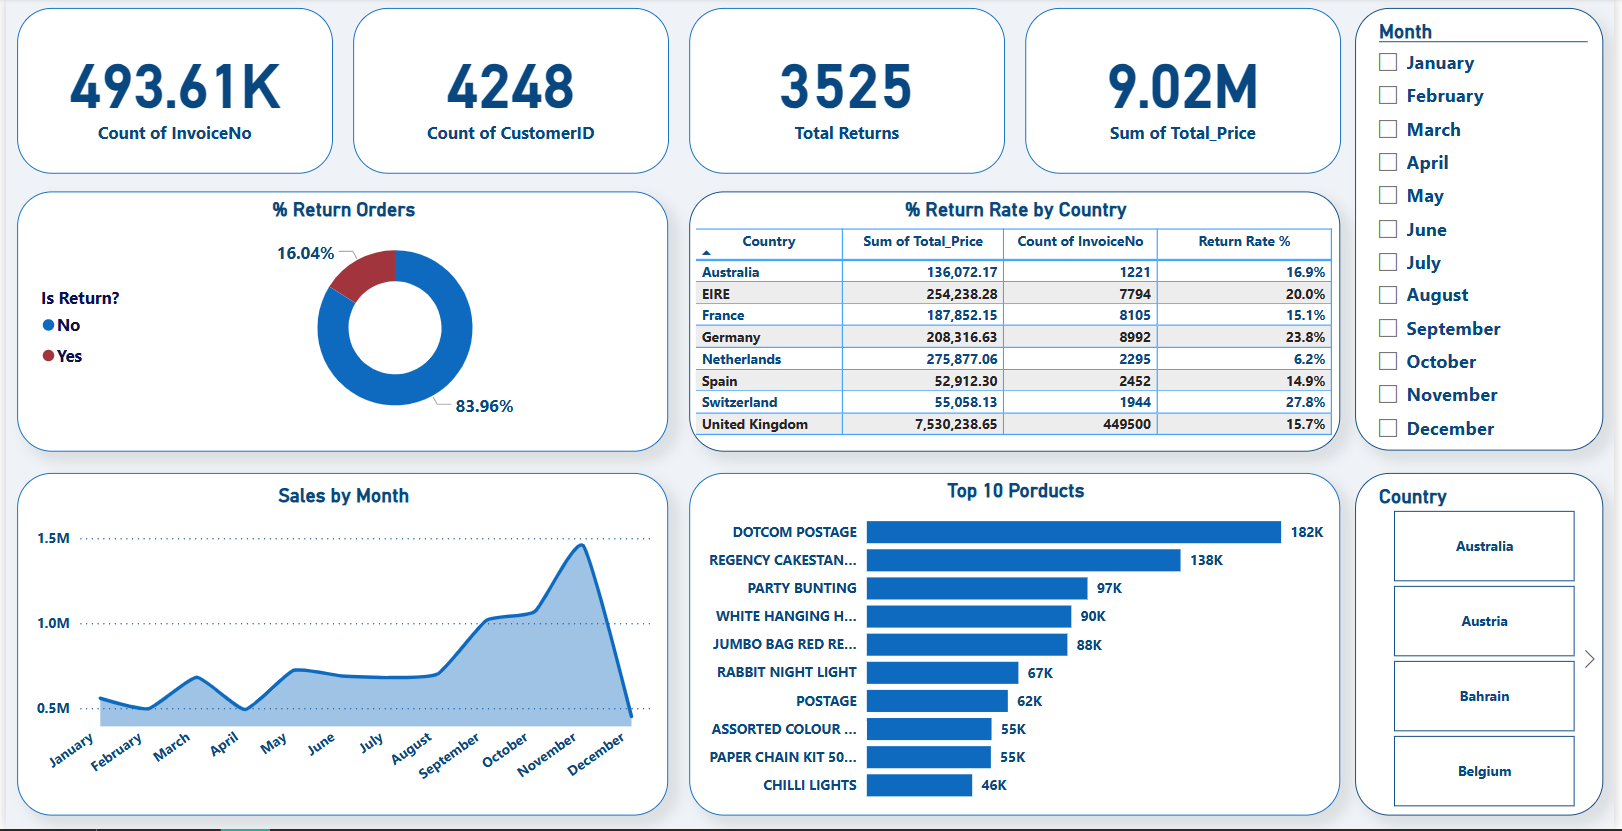

The page's visual inventory and layout, read from the dashboard file:
{"tool":"powerbi","page":{"name":"Dashboard","canvas":[1400,723],"ordinal":0},"visuals":[{"type":"areaChart","title":"Sales by Month","fields":{"Y":["Sum(dataset.Total_Price)"],"Category":["dataset.InvoiceDate.Variation.Date Hierarchy.Month"]},"box":[9.7,413.3,567.3,298.2],"z":0},{"type":"clusteredBarChart","title":"Top 10 Porducts","fields":{"Category":["dataset.Description"],"Y":["Sum(dataset.Total_Price)"]},"box":[595.2,413.3,567.3,298.2],"z":1000},{"type":"card","fields":{"Values":["CountNonNull(dataset.InvoiceNo)"]},"box":[9.7,8.5,275.2,144.2],"z":2000},{"type":"card","fields":{"Values":["Sum(dataset.Total_Price)"]},"box":[887.3,8.5,275.2,144.2],"z":3000},{"type":"card","fields":{"Values":["Count(dataset.CustomerID)"]},"box":[302.2,8.5,275.2,144.2],"z":4000},{"type":"card","fields":{"Values":["dataset.Total Returns"]},"box":[594.8,8.5,275.2,144.2],"z":5000},{"type":"donutChart","title":"% Return Orders","fields":{"Category":["dataset.Is_Return"],"Y":["Count(dataset.InvoiceNo)"]},"box":[9.7,168.5,567.3,226.7],"z":6000},{"type":"pivotTable","title":"% Return Rate by Country","fields":{"Rows":["dataset.Country"],"Values":["Sum(dataset.Total_Price)","CountNonNull(dataset.InvoiceNo)","dataset.Return Rate %"]},"box":[595.2,168.5,567.3,226.7],"z":7000},{"type":"slicer","title":"rrrrrr","fields":{"Values":["dataset.InvoiceDate.Variation.Date Hierarchy.Month"]},"box":[1174.9,8.9,216.3,385.7],"z":8000},{"type":"slicer","title":"rrrrrr","fields":{"Values":["dataset.Country"]},"box":[1174.9,413.6,216.3,298.5],"z":9000}]}

Visuals, with their boxes in screenshot pixels (x1, y1, x2, y2), scaled from the page's 1400x723 canvas onto the 1622x831 screenshot:
"Sales by Month" areaChart: x1=11, y1=475, x2=668, y2=818
"Top 10 Porducts" clusteredBarChart: x1=690, y1=475, x2=1347, y2=818
card - CountNonNull(dataset.InvoiceNo): x1=11, y1=10, x2=330, y2=176
card - Sum(dataset.Total_Price): x1=1028, y1=10, x2=1347, y2=176
card - Count(dataset.CustomerID): x1=350, y1=10, x2=669, y2=176
card - dataset.Total Returns: x1=689, y1=10, x2=1008, y2=176
"% Return Orders" donutChart: x1=11, y1=194, x2=668, y2=454
"% Return Rate by Country" pivotTable: x1=690, y1=194, x2=1347, y2=454
"rrrrrr" slicer: x1=1361, y1=10, x2=1612, y2=454
"rrrrrr" slicer: x1=1361, y1=475, x2=1612, y2=818
